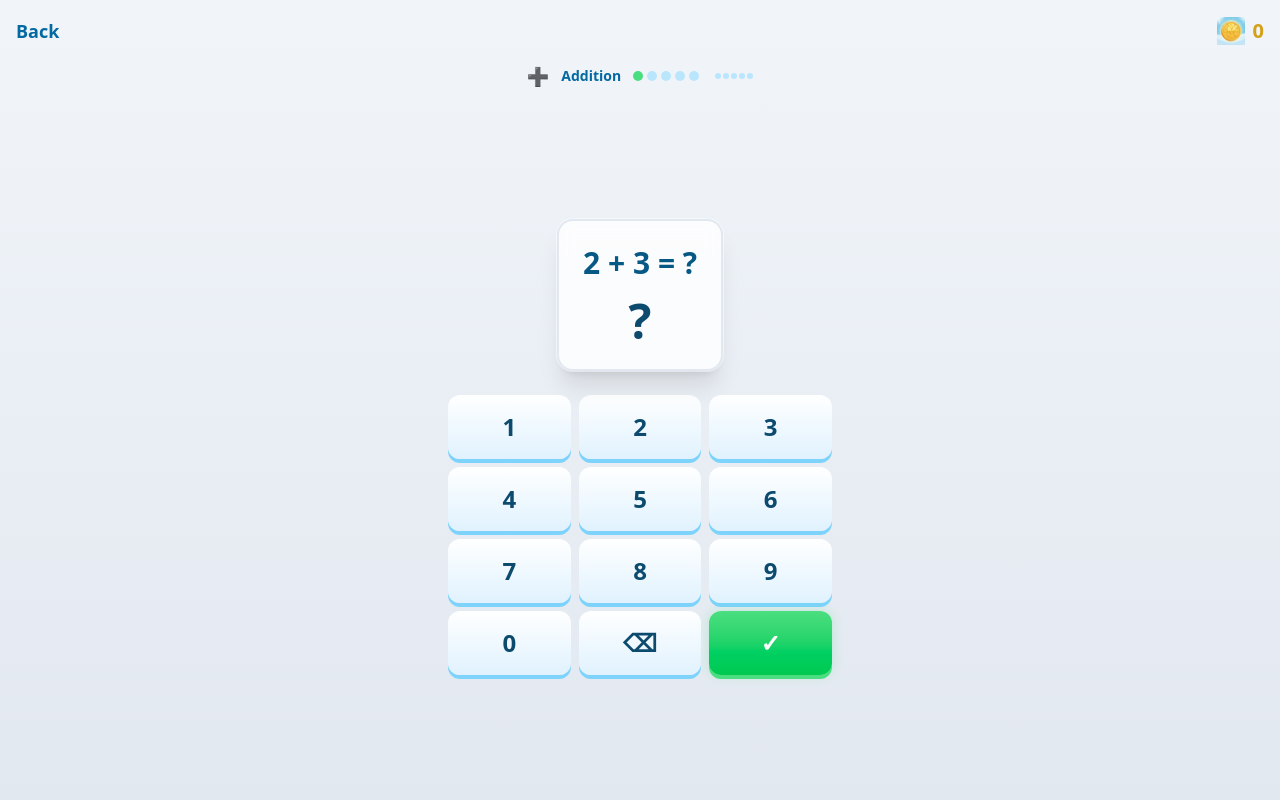
PlayScreen › first wrong answer shows instant 'try again' message (no loading)
Expected: the text "2 + 3 = ?" is shown, [583,245,697,281]
Type wrong answer: 4
What coordinates should you click on to do the following:
click the button "4"
I would click on:
 (509, 499)
Its box is [448,467,571,531].
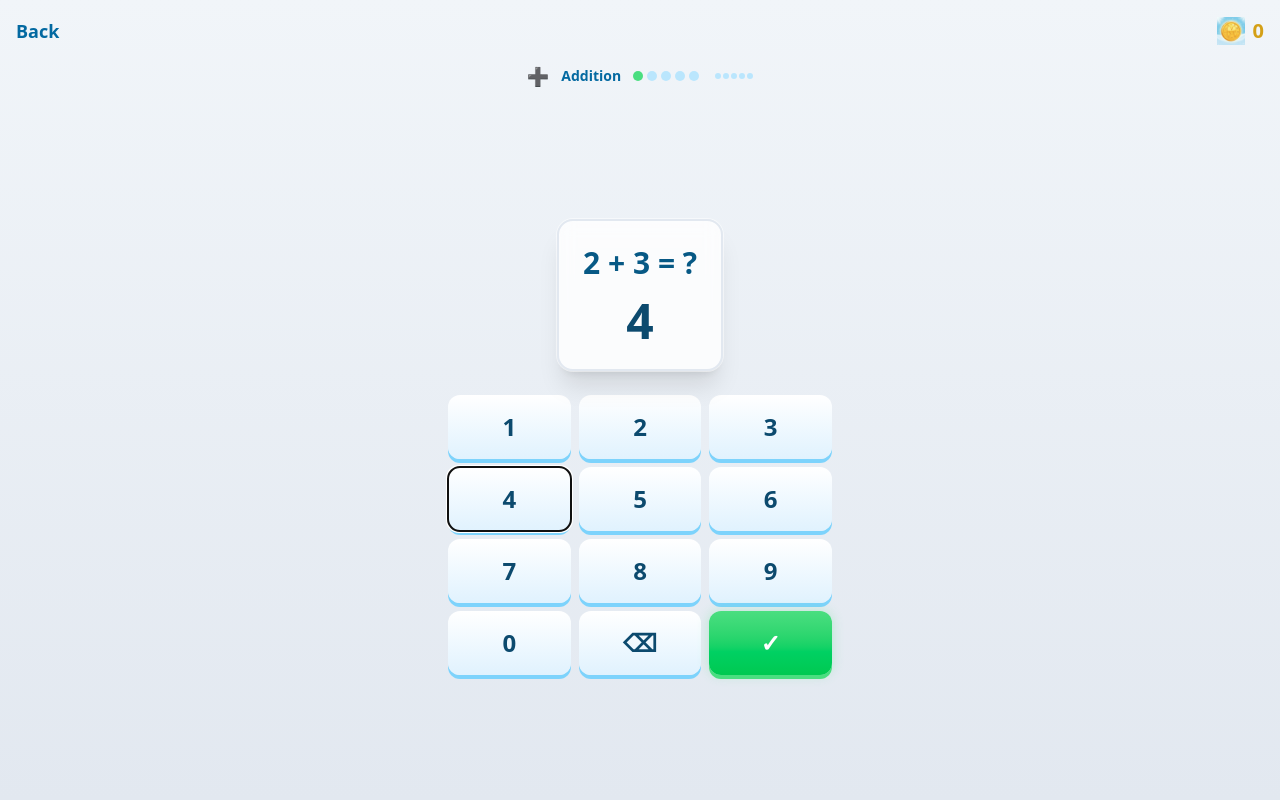
What coordinates should you click on to do the following:
click the button named "submit"
I would click on:
 (771, 643)
Its box is [709,611,832,675].
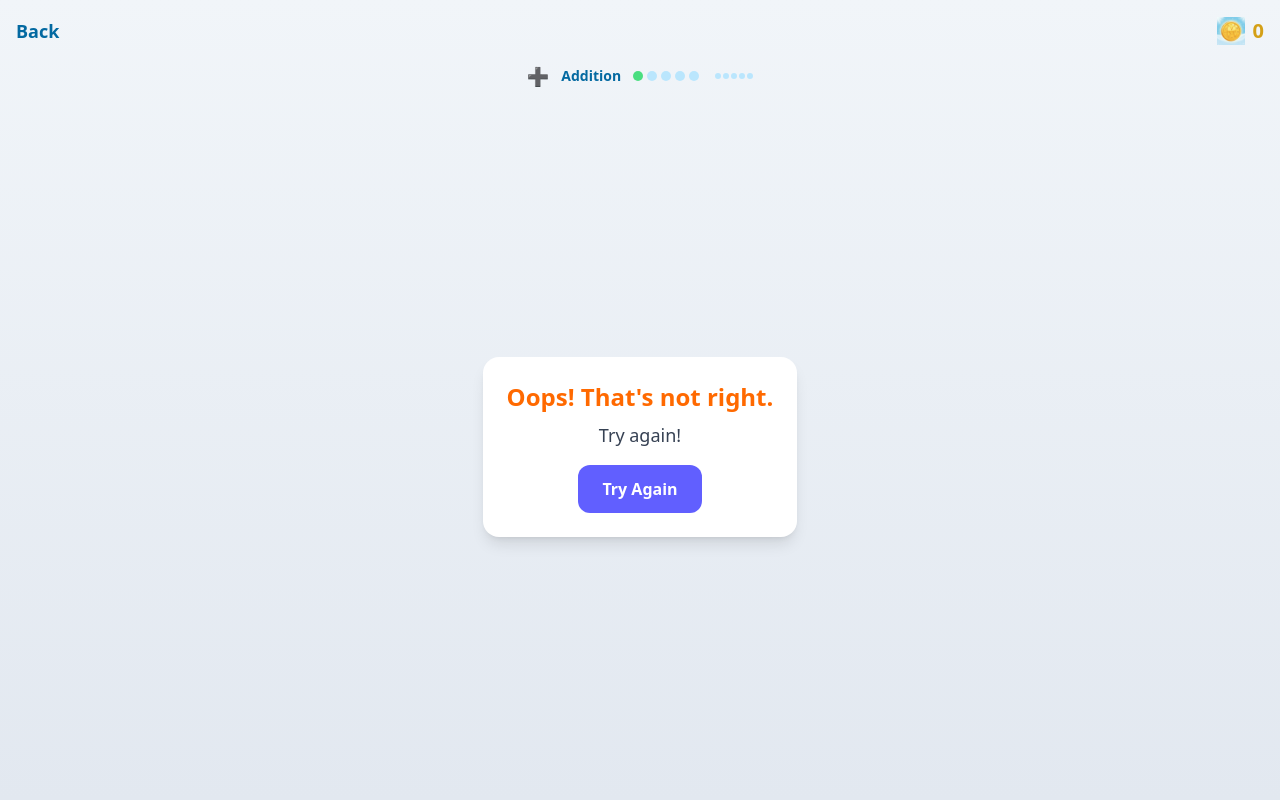
Expected: the text "Oops! That's not right." is shown, [507,381,773,413]
